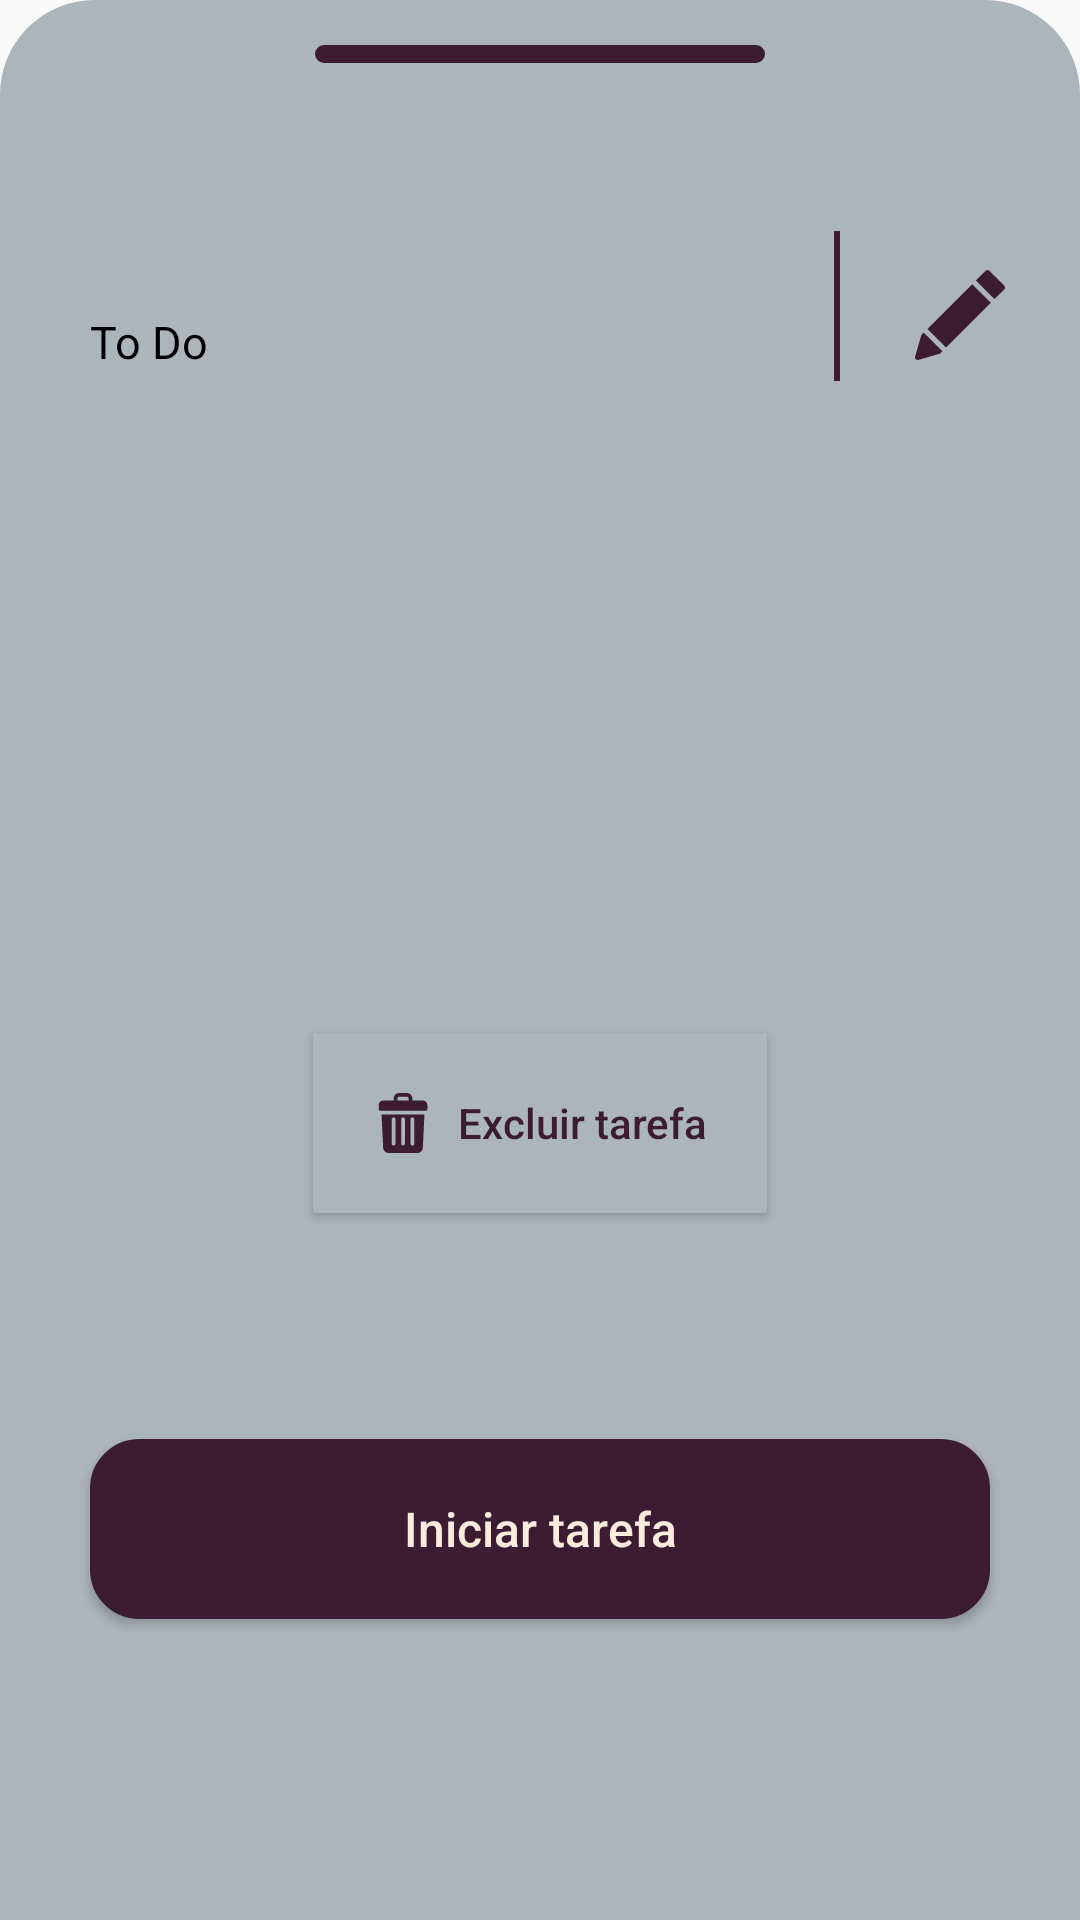

Screen size 1080w x 1920h. Icon name, then its box in pixels as box(x1, y1, x2, y2):
ferramenta lapis: box(915, 270, 1005, 360)
